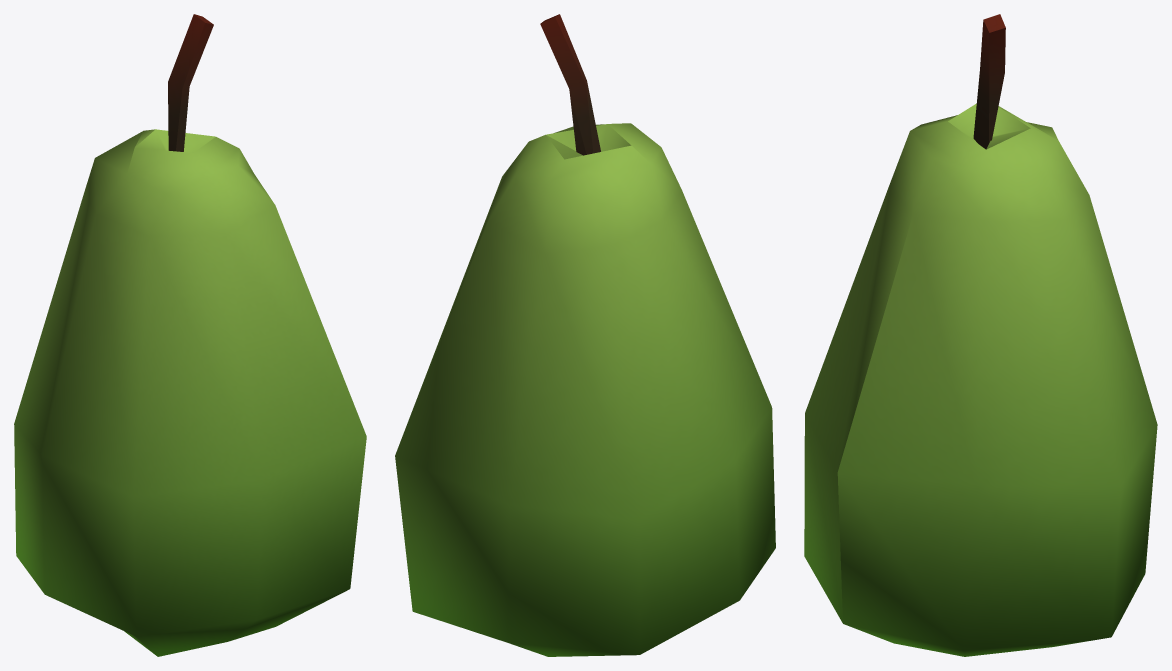
The model's file is object_fruit_pear.fbx.
The picture shows the model from 3 angles, left to right: view 1: azimuth 30°, elevation 25°; view 2: azimuth 150°, elevation 25°; view 3: azimuth 270°, elevation 25°; orthographic projection. The views are drawn at different scales.
Parts seen in each view (by area): view 1: object_fruit_pear; view 2: object_fruit_pear; view 3: object_fruit_pear.
Part boxes in pixels (left/top/right/bottom): object_fruit_pear: left=14, top=14, right=366, bottom=656; object_fruit_pear: left=395, top=14, right=775, bottom=656; object_fruit_pear: left=804, top=14, right=1157, bottom=656.
Bounding box in the file's own units: 0.0947 × 0.0976 × 0.1881.
